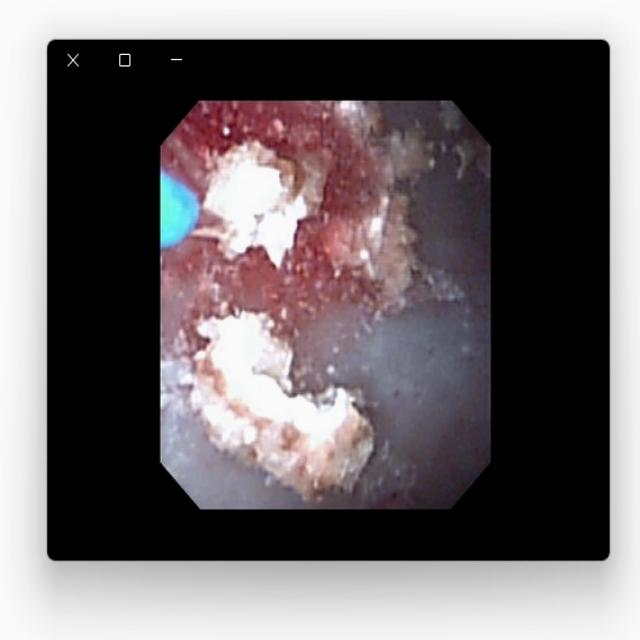fiber: (165, 178, 197, 240)
stone: (188, 321, 368, 497), (324, 103, 434, 306), (208, 145, 330, 263)
